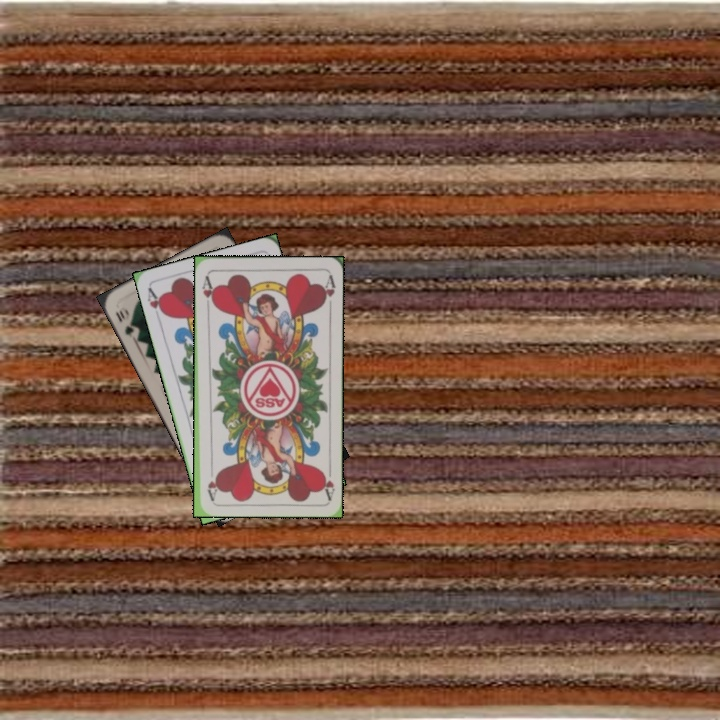G10: (111, 306, 138, 341)
HA: (143, 284, 168, 324), (318, 460, 337, 501), (198, 272, 217, 312)
